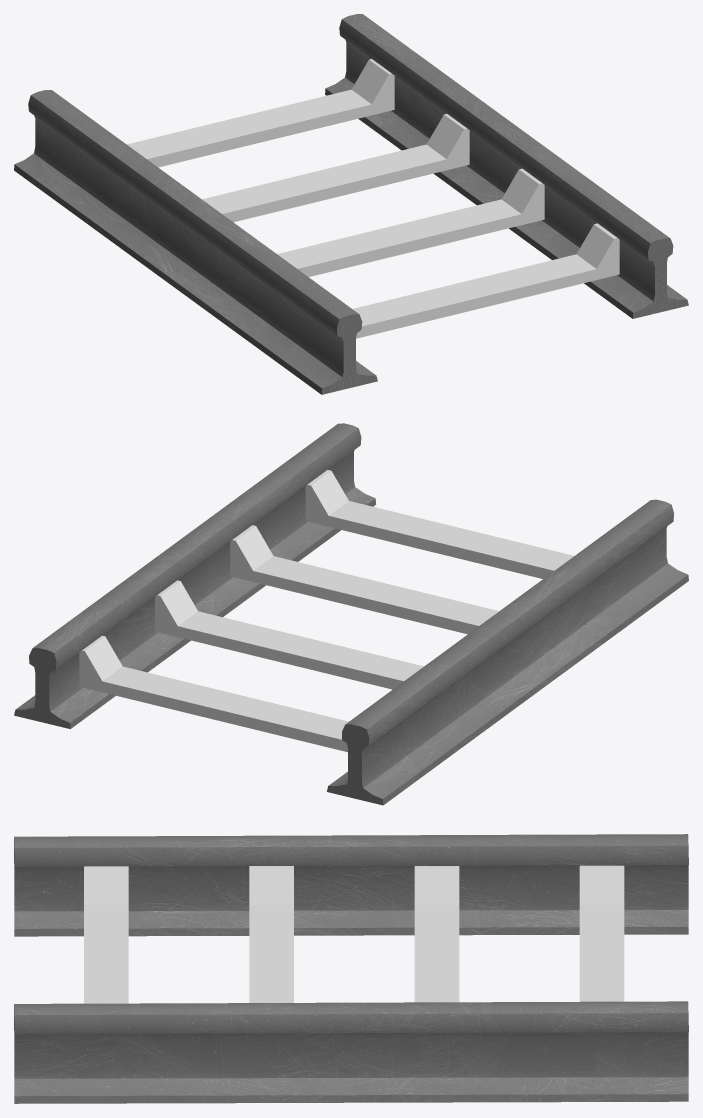
The model's file is relsa.fbx.
The picture shows the model from 3 angles, top to bottom: view 1: azimuth 30°, elevation 25°; view 2: azimuth 150°, elevation 25°; view 3: azimuth 270°, elevation 25°; orthographic projection. The views are drawn at different scales.
Visible parts, largest first — view 1: Рельса.001, Деревяшки.001, Рельса.002; view 2: Рельса.001, Деревяшки.001, Рельса.002; view 3: Рельса.002, Рельса.001, Деревяшки.001.
Boxes of the visible parts, left/top/right/bottom form: Рельса.001: left=14, top=90, right=377, bottom=394; Деревяшки.001: left=127, top=59, right=619, bottom=338; Рельса.002: left=325, top=14, right=688, bottom=318; Рельса.001: left=327, top=499, right=688, bottom=805; Деревяшки.001: left=79, top=470, right=573, bottom=752; Рельса.002: left=14, top=423, right=376, bottom=728; Рельса.002: left=14, top=1001, right=688, bottom=1103; Рельса.001: left=14, top=834, right=688, bottom=936; Деревяшки.001: left=84, top=865, right=624, bottom=1003.
Size of the model in its own units: 2.63 by 3.77 by 0.5041.
